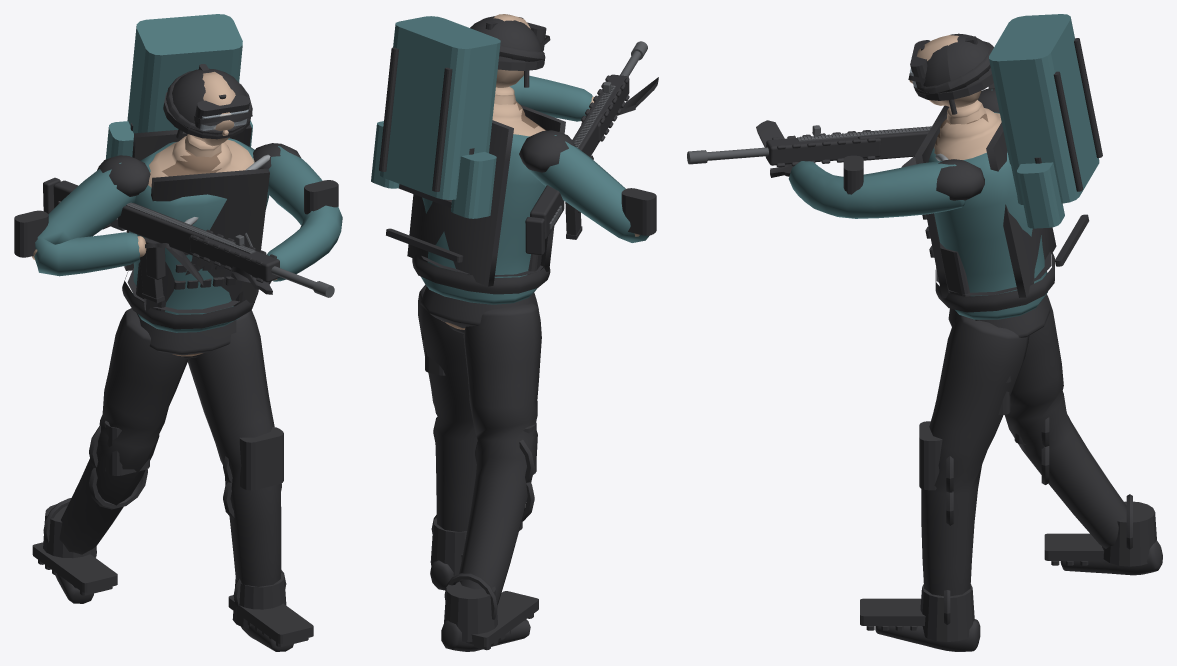
The model's file is arctic-station-fps-kit-attacker-heavy-aiming-aa56f5b6__28525.glb.
3 renders of one model, left to right at view 1: azimuth 30°, elevation 25°; view 2: azimuth 150°, elevation 25°; view 3: azimuth 270°, elevation 25°, orthographic. The views are drawn at different scales.
Parts seen in each view (by area): view 1: attacker-heavy-aiming; view 2: attacker-heavy-aiming; view 3: attacker-heavy-aiming.
Boxes of the visible parts, x1,y1,x2,y2 form: attacker-heavy-aiming: (14, 14, 342, 651); attacker-heavy-aiming: (371, 14, 658, 651); attacker-heavy-aiming: (687, 14, 1162, 651).
Size of the model in its own units: 0.8608 by 1.84 by 1.32.
